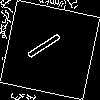I: (25, 25, 71, 62)
